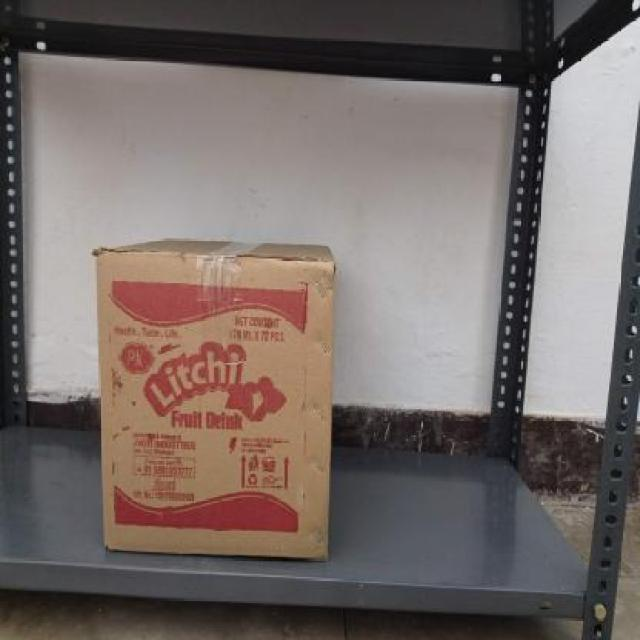box: (103, 260, 334, 551)
